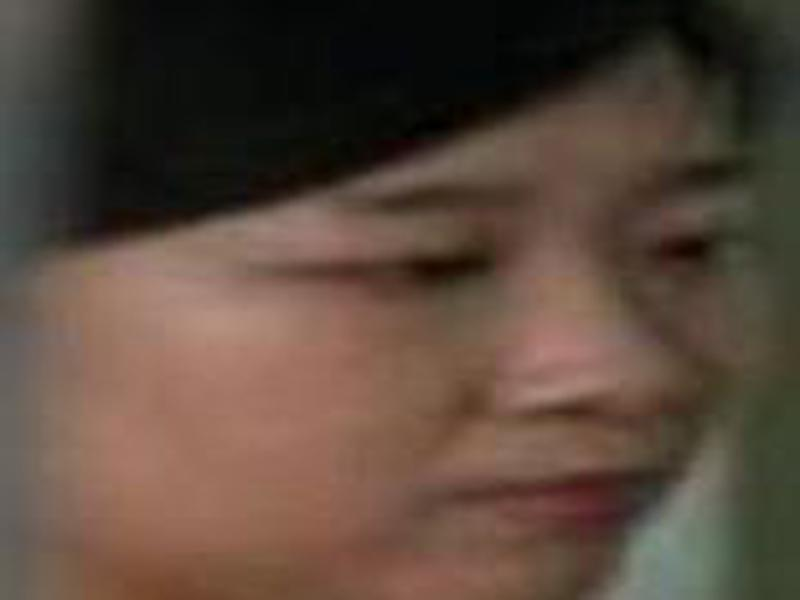without_mask: (104, 153, 743, 599)
